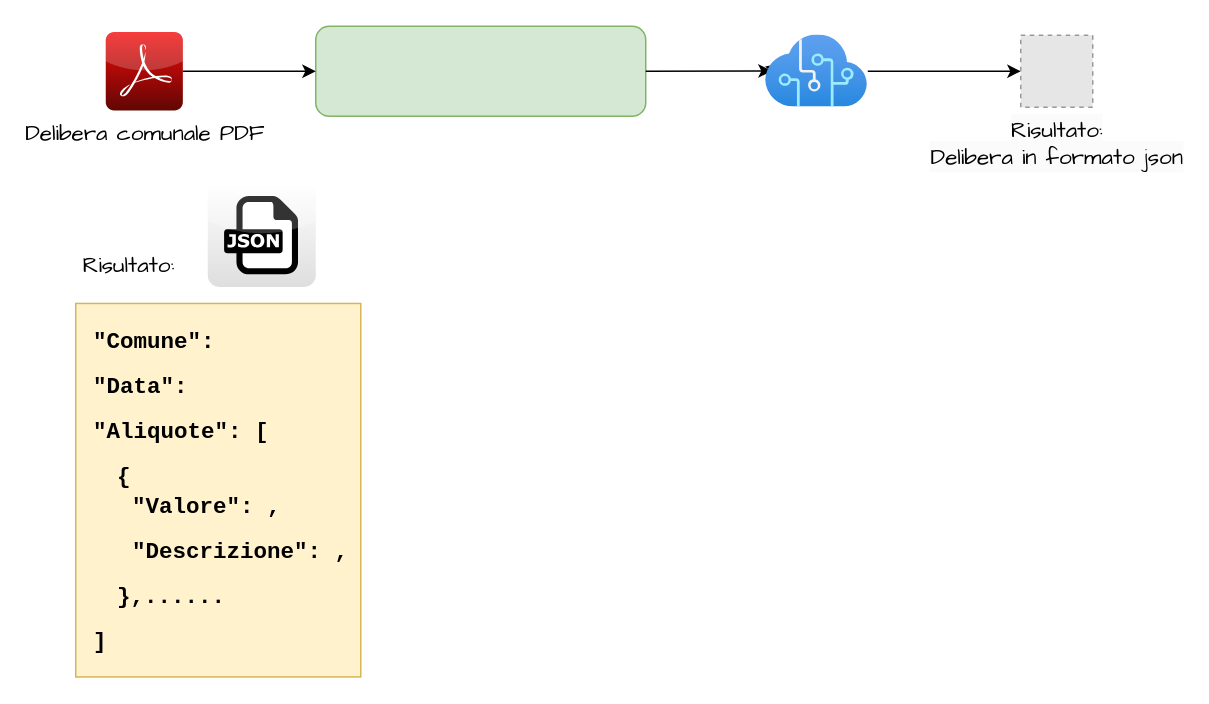
The diagram is 1209 pixels wide and 704 high, and some of its shapes have lost their labels. Grey dashed boxes stand in for pictures. The centre of each missing label's shape, as x and y in pixels:
endpoint: '/estrazione_aliquote_ep': the point at 480,70
OpenAI [gpt-4o-mini]: the point at 816,70
